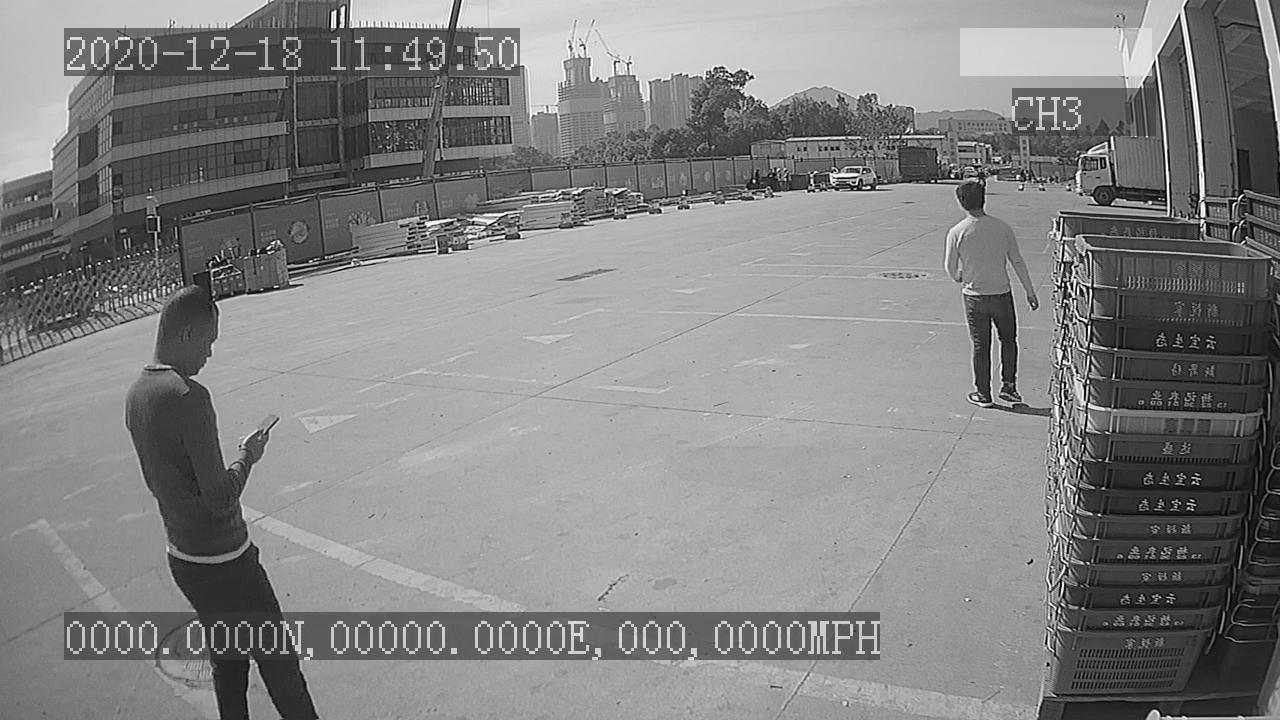person: (936, 177, 1045, 410)
